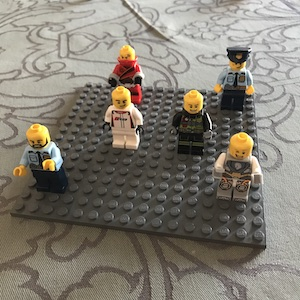Lego: (15, 123, 71, 194), (210, 133, 261, 207), (98, 88, 147, 153), (211, 44, 256, 114), (170, 90, 216, 153), (107, 43, 144, 106)
